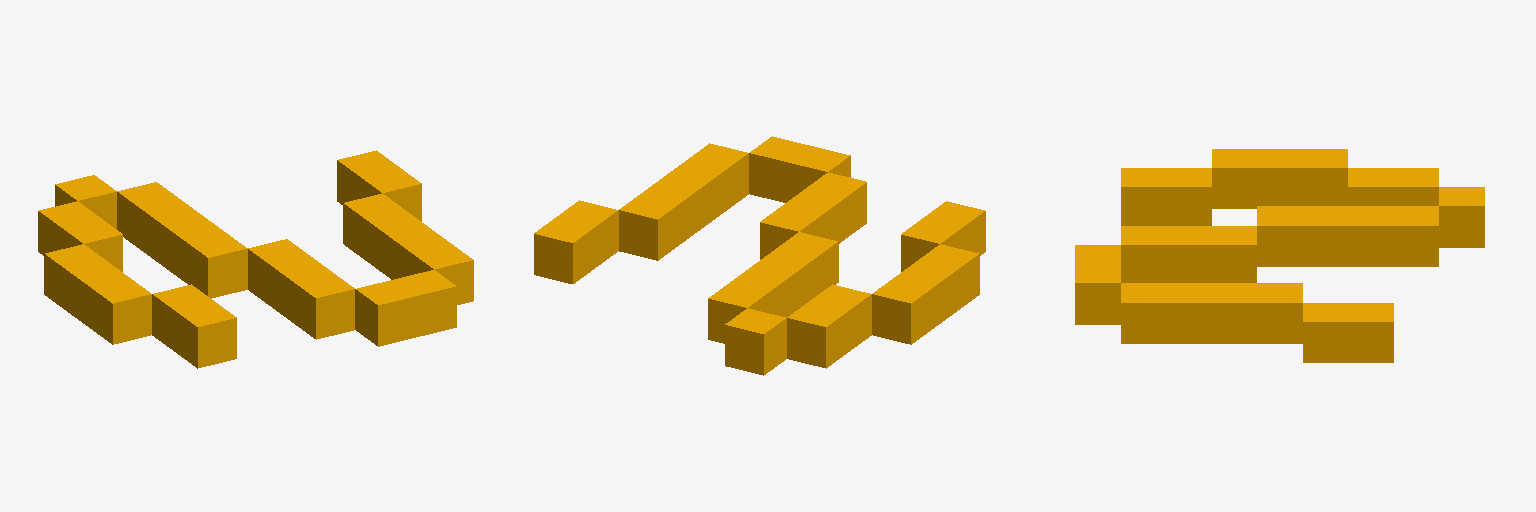
3 renders of one model, left to right at view 1: azimuth 30°, elevation 25°; view 2: azimuth 150°, elevation 25°; view 3: azimuth 270°, elevation 25°, orthographic.
Visible parts, largest first — view 1: object 1; view 2: object 1; view 3: object 1.
Part boxes in pixels (x1,y1,x2,y2): object 1: (38, 150, 473, 368); object 1: (534, 136, 985, 375); object 1: (1075, 149, 1484, 362).
Size of the model in its own units: 0.9 by 0.1 by 0.9.
1 materials, 1 textured.